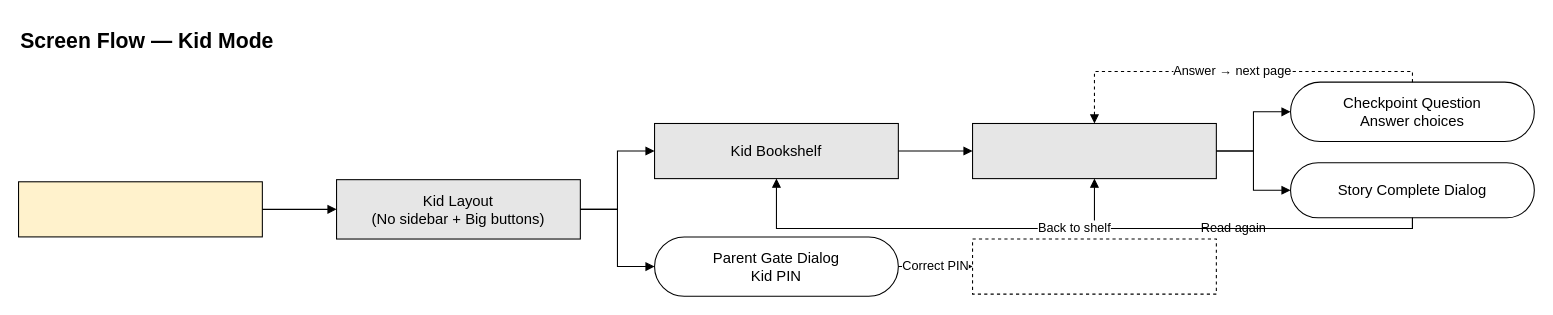
The diagram is 1553 pixels wide and 315 high, and some of its shapes have lost their labels. Each missing label, with the centre of its shape:
Enter Kid Mode: the point at 139,209
Parent Portal: the point at 1093,266
Story Reader: the point at 1093,150
